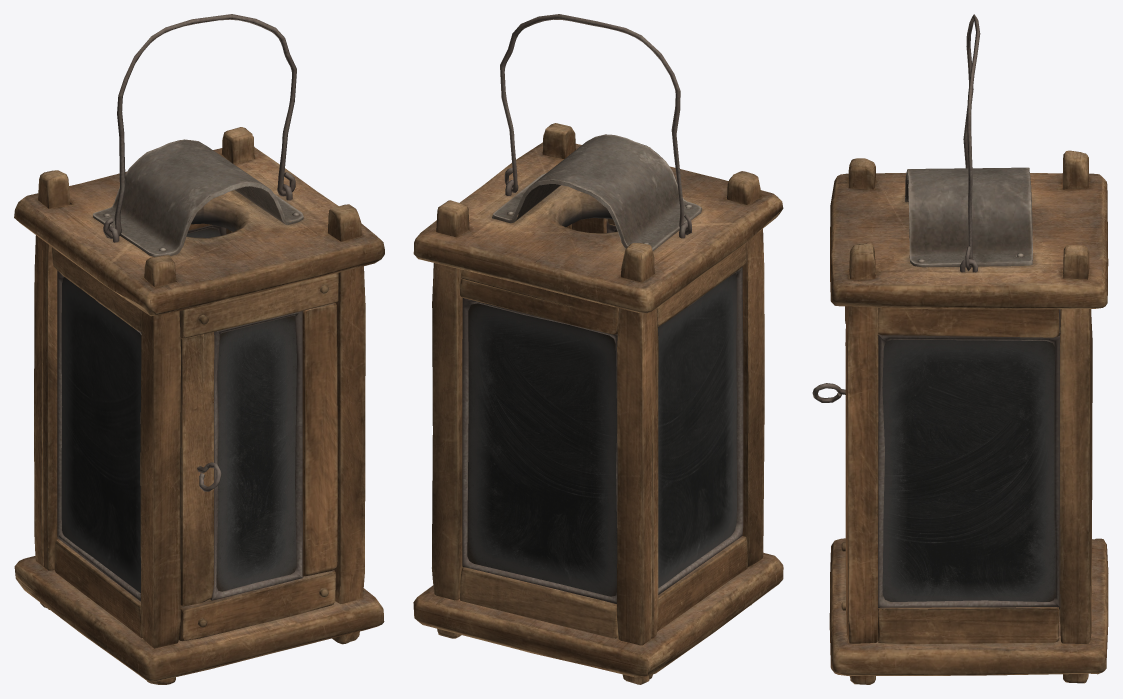
File: Decor_Lantern.obj
3 views of the same model, side by side, from view 1: azimuth 30°, elevation 25°; view 2: azimuth 150°, elevation 25°; view 3: azimuth 270°, elevation 25° (orthographic).
Visible parts, largest first — view 1: Decor_Lantern; view 2: Decor_Lantern; view 3: Decor_Lantern.
Part boxes in pixels (x1,y1,x2,y2): Decor_Lantern: [14, 14, 384, 684]; Decor_Lantern: [413, 14, 783, 684]; Decor_Lantern: [812, 14, 1108, 684].
Size of the model in its own units: 0.8343 by 2 by 0.8861.
